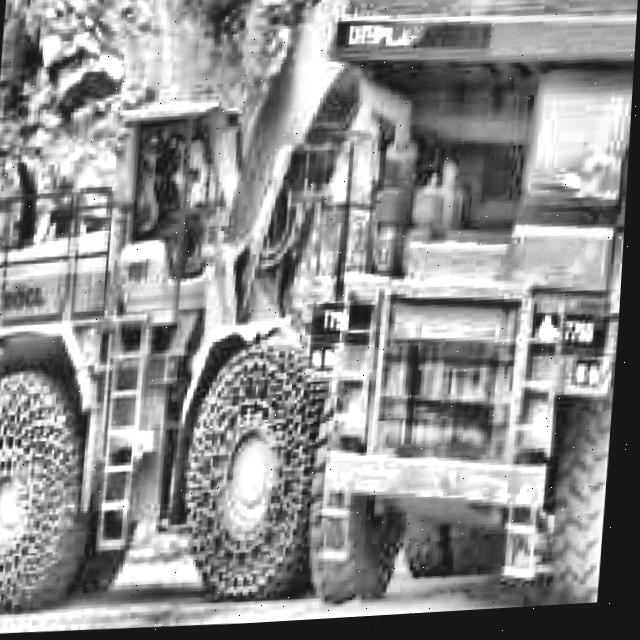dump_truck: (296, 0, 640, 625)
